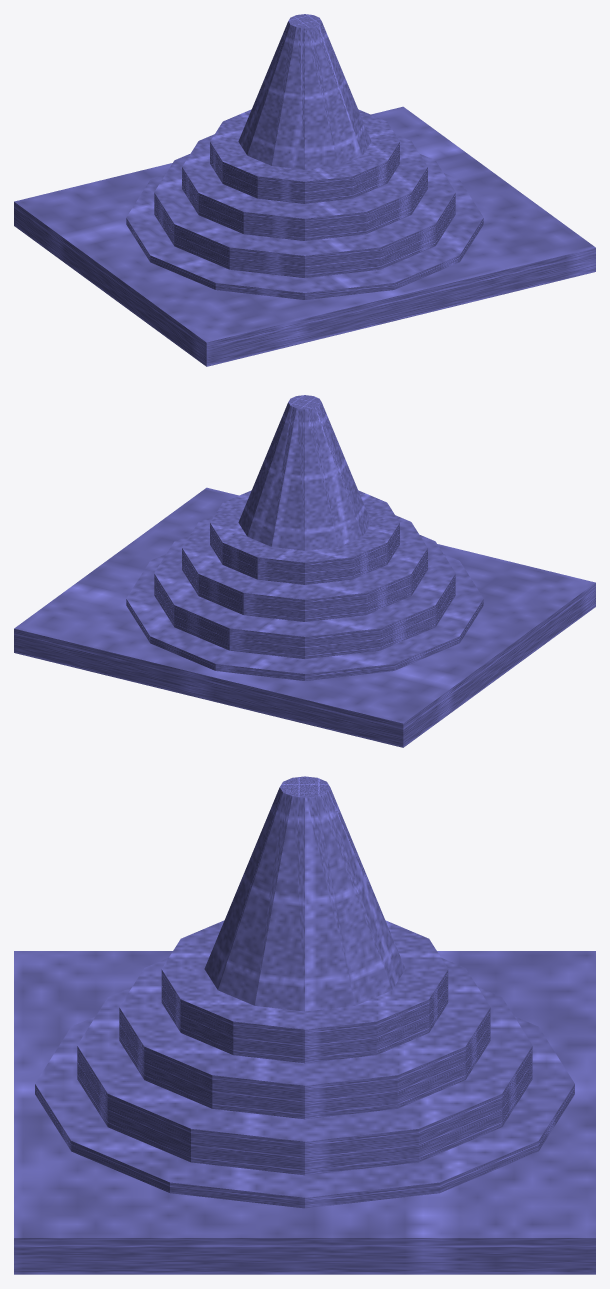
File: meteor_dais_01.glb
3 views of the same model, one above another, from view 1: azimuth 30°, elevation 25°; view 2: azimuth 150°, elevation 25°; view 3: azimuth 270°, elevation 25° (orthographic). The views are drawn at different scales.
Visible parts, largest first — view 1: Foundation, MeteorStep.001, Meteor, MeteorStep.002, MeteorStep, MeteorStep.003; view 2: Foundation, MeteorStep.001, Meteor, MeteorStep.002, MeteorStep, MeteorStep.003; view 3: Foundation, MeteorStep.001, Meteor, MeteorStep.002, MeteorStep, MeteorStep.003.
Boxes of the visible parts, box(x1,y1,x2,y2) form: Foundation: box(14, 106, 595, 366); MeteorStep.001: box(154, 154, 455, 277); Meteor: box(238, 14, 371, 169); MeteorStep.002: box(182, 134, 427, 240); MeteorStep: box(126, 173, 483, 299); MeteorStep.003: box(210, 109, 399, 203); Foundation: box(14, 487, 595, 747); MeteorStep.001: box(154, 535, 455, 658); Meteor: box(238, 395, 371, 550); MeteorStep.002: box(182, 515, 427, 621); MeteorStep: box(126, 554, 483, 680); MeteorStep.003: box(210, 490, 399, 584); Foundation: box(14, 951, 595, 1274); MeteorStep.001: box(77, 987, 532, 1175); Meteor: box(204, 776, 405, 1011); MeteorStep.002: box(119, 958, 490, 1119); MeteorStep: box(35, 1016, 574, 1208); MeteorStep.003: box(161, 920, 448, 1063).
Size of the model in its own units: 4.03 by 2.25 by 3.45.
Materials: 1 (1 with a texture image).
